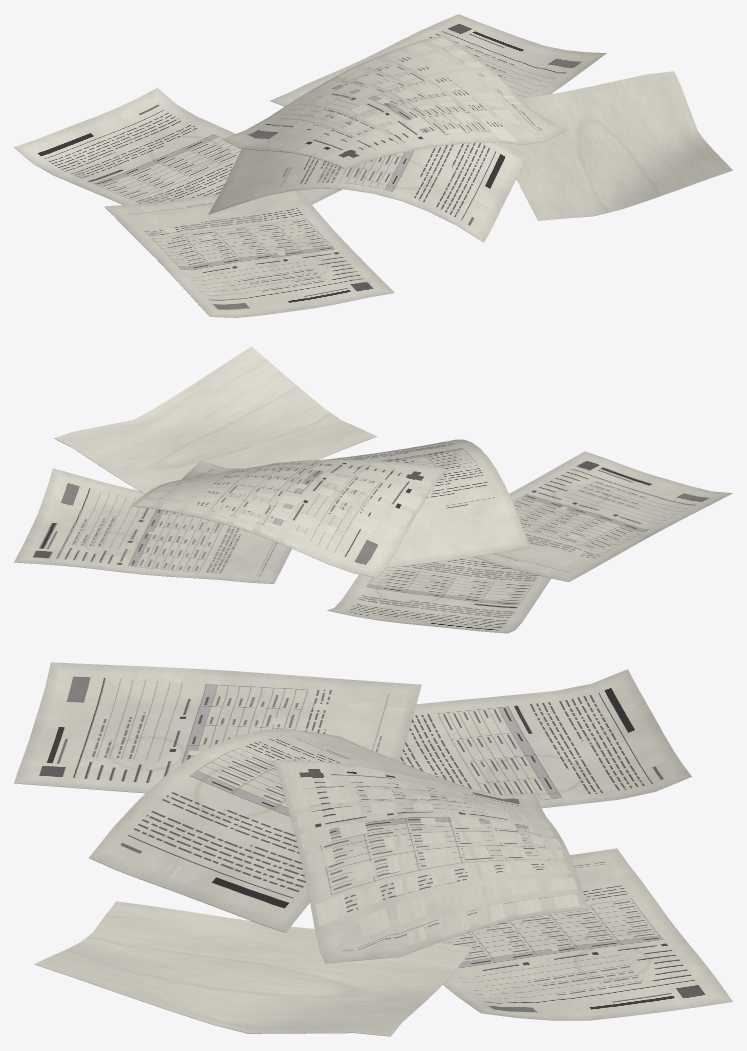
The model's file is SM_PaperDebris_A.fbx.
3 renders of one model, top to bottom at view 1: azimuth 30°, elevation 25°; view 2: azimuth 150°, elevation 25°; view 3: azimuth 270°, elevation 25°, orthographic. The views are drawn at different scales.
Parts seen in each view (by area): view 1: SM_PaperDebris_A; view 2: SM_PaperDebris_A; view 3: SM_PaperDebris_A.
Boxes of the visible parts, x1=… form: SM_PaperDebris_A: x1=14, y1=14, x2=732, y2=317; SM_PaperDebris_A: x1=14, y1=346, x2=732, y2=633; SM_PaperDebris_A: x1=14, y1=662, x2=732, y2=1036.
Size of the model in its own units: 72 by 5.2 by 57.01.
